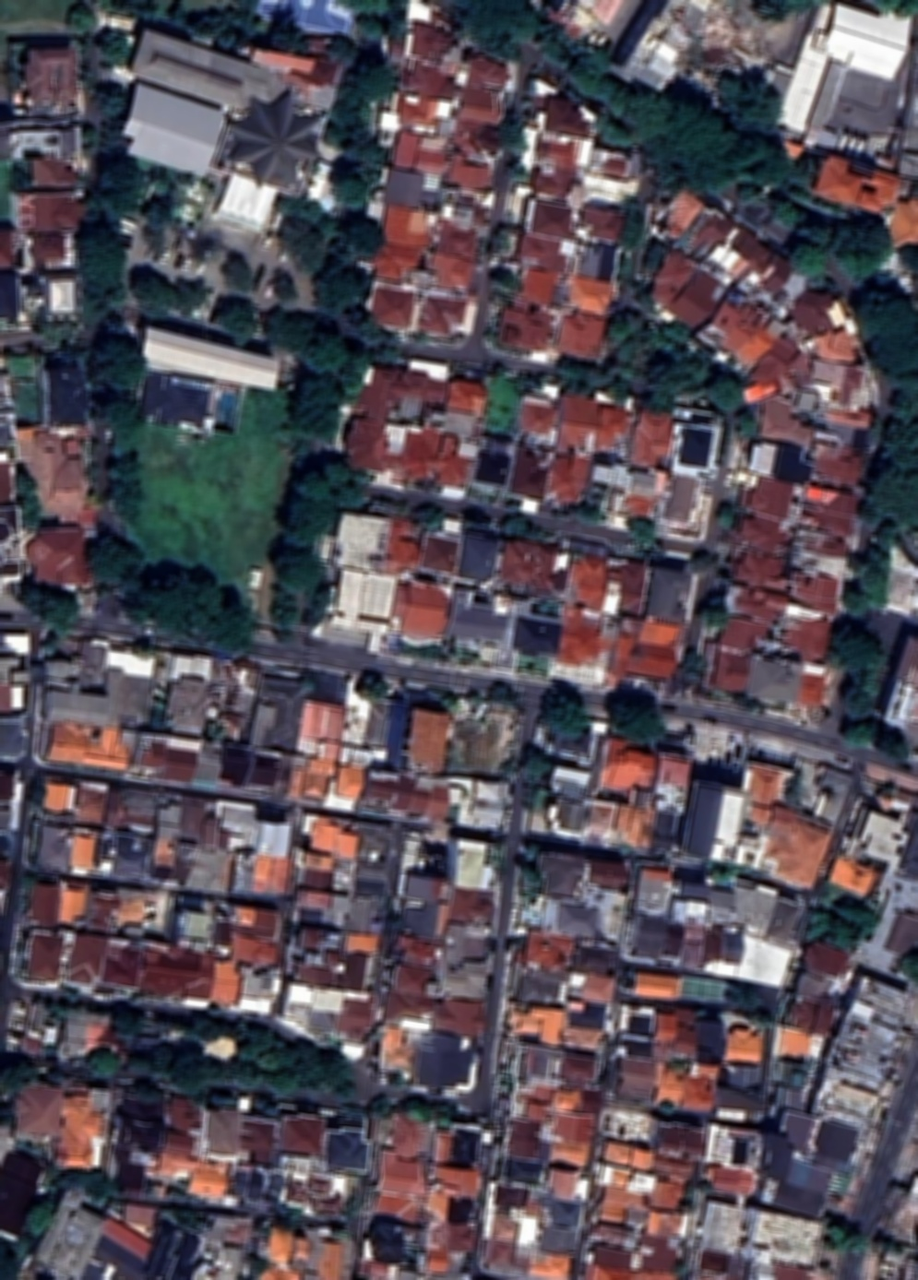building: (546, 541, 692, 699), (805, 966, 918, 1137), (316, 339, 453, 476), (210, 73, 339, 202), (126, 26, 289, 123), (672, 198, 798, 314), (148, 649, 276, 748), (696, 875, 807, 988), (609, 0, 726, 101), (114, 80, 230, 179), (337, 412, 475, 493), (136, 325, 283, 392), (635, 244, 732, 340), (148, 793, 235, 893), (133, 367, 245, 443), (772, 16, 840, 140), (809, 60, 907, 146), (748, 802, 837, 893), (27, 1187, 113, 1280), (817, 0, 914, 82), (696, 288, 786, 374), (16, 423, 92, 523), (329, 507, 430, 581), (214, 801, 292, 896), (852, 869, 918, 981), (543, 793, 659, 853), (808, 151, 904, 221), (702, 923, 796, 994), (243, 44, 342, 111), (79, 646, 157, 731), (675, 778, 749, 867), (843, 792, 918, 876), (739, 332, 817, 408), (357, 764, 453, 825), (335, 689, 410, 766), (369, 201, 436, 287), (760, 1150, 837, 1223), (245, 671, 311, 756), (279, 981, 371, 1041), (445, 703, 518, 776), (85, 1213, 164, 1280), (494, 534, 574, 598), (582, 460, 662, 523), (745, 1206, 825, 1269), (572, 139, 645, 207), (548, 0, 647, 50), (51, 1088, 109, 1173), (42, 719, 134, 772), (350, 822, 401, 915), (329, 566, 397, 635), (404, 1031, 477, 1093), (192, 1210, 256, 1280), (639, 553, 700, 626), (136, 946, 215, 1002), (212, 170, 279, 236), (688, 1193, 753, 1261), (24, 524, 90, 590), (388, 579, 453, 646), (0, 1147, 46, 1239), (805, 358, 875, 416), (373, 1148, 429, 1220), (131, 730, 201, 787), (878, 630, 917, 732), (330, 509, 391, 574), (215, 742, 285, 798), (597, 737, 660, 799), (444, 775, 512, 832), (742, 435, 816, 487), (38, 354, 89, 429), (669, 406, 721, 479), (677, 203, 737, 266), (623, 617, 681, 682), (219, 905, 280, 966), (752, 394, 819, 449), (400, 705, 453, 774), (146, 1216, 203, 1280), (701, 1122, 769, 1175), (806, 1115, 863, 1176), (554, 608, 609, 671), (294, 697, 348, 761), (742, 655, 806, 709), (623, 912, 685, 967), (797, 484, 860, 538), (42, 687, 121, 730), (445, 597, 510, 649), (115, 1087, 166, 1152), (22, 47, 77, 107), (297, 812, 363, 862), (728, 507, 792, 558), (721, 579, 789, 627), (626, 407, 676, 472), (653, 1065, 718, 1115), (548, 307, 608, 361), (737, 470, 798, 523), (174, 841, 232, 896), (652, 185, 707, 243), (805, 439, 866, 491), (725, 546, 791, 594), (601, 555, 650, 619), (56, 1007, 111, 1064), (784, 280, 838, 338), (505, 998, 568, 1047), (608, 1052, 663, 1108), (283, 1171, 347, 1219), (47, 639, 107, 690), (285, 751, 340, 806), (323, 1112, 371, 1175), (494, 304, 553, 355), (537, 896, 603, 941), (7, 997, 59, 1054), (543, 451, 594, 508), (11, 192, 83, 232), (824, 852, 884, 900), (163, 674, 210, 735), (587, 1247, 676, 1279), (59, 931, 108, 989), (574, 0, 643, 41), (785, 568, 843, 616), (399, 59, 458, 106), (532, 850, 587, 900), (435, 189, 492, 237), (738, 760, 791, 811), (364, 282, 418, 332), (516, 929, 576, 974), (791, 523, 852, 567), (18, 929, 65, 986), (374, 698, 411, 769), (803, 321, 862, 365), (629, 862, 676, 917), (507, 445, 553, 501), (454, 50, 512, 94), (235, 965, 283, 1018), (14, 1084, 62, 1137), (782, 993, 837, 1039), (796, 937, 852, 982), (430, 995, 487, 1039), (651, 754, 692, 815), (566, 553, 609, 611), (394, 895, 447, 942), (401, 19, 454, 66), (569, 236, 622, 283), (522, 196, 577, 241), (380, 1111, 429, 1161), (9, 126, 81, 160), (26, 820, 73, 872), (455, 531, 500, 585), (715, 612, 769, 657), (556, 394, 599, 450), (772, 1107, 820, 1157), (101, 833, 153, 879), (98, 939, 144, 991), (70, 783, 123, 828), (513, 231, 569, 273), (705, 647, 754, 695), (477, 1237, 532, 1279), (202, 1106, 243, 1162), (292, 925, 344, 969), (343, 417, 386, 470), (416, 295, 469, 338), (298, 698, 346, 745), (452, 839, 496, 890), (780, 618, 831, 662), (425, 251, 477, 294), (562, 274, 615, 316), (625, 641, 679, 682), (516, 1043, 564, 1089), (374, 1024, 417, 1075), (438, 958, 489, 1001), (365, 1216, 408, 1267), (228, 1165, 284, 1204), (443, 153, 495, 195), (661, 472, 701, 526), (116, 786, 160, 835), (511, 615, 562, 657), (622, 467, 664, 518), (538, 95, 590, 136), (515, 967, 568, 1007), (115, 1194, 163, 1238), (379, 166, 427, 210), (543, 794, 591, 838), (454, 85, 505, 126), (575, 203, 626, 244), (611, 803, 655, 850), (674, 421, 716, 470), (160, 1092, 206, 1136), (335, 993, 376, 1042), (21, 232, 75, 269), (702, 1162, 759, 1197), (516, 265, 562, 308), (443, 922, 490, 964), (433, 221, 481, 262), (82, 886, 122, 934), (594, 402, 633, 451), (207, 959, 245, 1009), (758, 1132, 795, 1183), (24, 878, 61, 928), (418, 532, 461, 575), (654, 1009, 696, 1053), (307, 1235, 348, 1280), (443, 375, 488, 416), (693, 1012, 729, 1063), (654, 1122, 705, 1158), (883, 908, 918, 960), (228, 1161, 270, 1204), (188, 1158, 231, 1200), (723, 1023, 765, 1066), (240, 1118, 277, 1166), (516, 395, 558, 437), (658, 560, 702, 600), (157, 745, 199, 786), (280, 1117, 324, 1156), (630, 968, 682, 1001), (637, 1233, 681, 1272), (790, 966, 834, 1005), (431, 1164, 481, 1198), (549, 1110, 596, 1146), (537, 1195, 584, 1231), (433, 451, 474, 492), (399, 871, 448, 905), (528, 166, 574, 202), (447, 888, 494, 923), (320, 780, 361, 820), (600, 1186, 645, 1222), (382, 990, 434, 1021), (252, 818, 292, 858), (251, 855, 291, 895), (505, 1117, 542, 1160), (713, 1086, 767, 1115), (650, 1150, 696, 1184), (548, 661, 608, 687), (262, 1224, 299, 1266), (585, 857, 630, 891), (590, 1220, 639, 1251), (335, 950, 371, 992), (557, 1052, 599, 1088), (0, 774, 24, 837), (27, 158, 77, 188), (388, 962, 432, 996), (500, 1155, 545, 1188), (343, 896, 382, 934), (646, 1176, 686, 1213), (172, 908, 214, 943), (388, 129, 423, 171), (888, 197, 917, 247), (473, 449, 511, 487), (112, 1158, 149, 1197), (774, 1025, 813, 1062), (155, 1150, 201, 1181), (175, 800, 207, 844), (43, 273, 77, 314), (544, 1166, 582, 1202), (321, 890, 356, 929), (644, 1208, 688, 1239), (577, 971, 617, 1005), (537, 1224, 579, 1256), (332, 763, 367, 801), (448, 1127, 482, 1166), (491, 1182, 530, 1216), (116, 893, 156, 926), (795, 669, 828, 709), (527, 1251, 572, 1280), (535, 138, 577, 169), (363, 367, 404, 398), (291, 962, 339, 988), (67, 831, 98, 871), (41, 780, 76, 815), (567, 1000, 607, 1030), (695, 1249, 733, 1280), (0, 717, 26, 762), (551, 758, 592, 786), (59, 885, 88, 924), (398, 97, 438, 125), (0, 269, 21, 321), (818, 408, 871, 428), (600, 1138, 635, 1168), (550, 1141, 590, 1167), (722, 1063, 760, 1090), (783, 600, 824, 625), (294, 887, 333, 912), (676, 879, 713, 905), (219, 709, 250, 740), (441, 1223, 474, 1252), (414, 147, 447, 176), (163, 1129, 197, 1157), (0, 516, 19, 565), (471, 124, 502, 154), (622, 1007, 654, 1036), (296, 867, 333, 891), (618, 1036, 655, 1060), (0, 221, 17, 268), (0, 629, 30, 655), (521, 1098, 551, 1123), (773, 1262, 817, 1279), (653, 1011, 677, 1042), (200, 814, 221, 849), (405, 0, 435, 24), (425, 1247, 450, 1274), (425, 1194, 449, 1222), (629, 1146, 654, 1171), (258, 1266, 302, 1279), (158, 803, 181, 825), (0, 771, 15, 802), (0, 856, 11, 891), (634, 2, 649, 24), (48, 695, 71, 709), (0, 831, 10, 858)
tree: (633, 92, 757, 215), (563, 40, 676, 143), (254, 182, 351, 278), (117, 559, 227, 643), (846, 271, 918, 382), (701, 58, 792, 143), (859, 418, 917, 545), (821, 208, 899, 290), (77, 148, 149, 236), (593, 680, 675, 755), (154, 1032, 230, 1106), (75, 530, 148, 605), (451, 0, 540, 61), (726, 124, 797, 196), (165, 0, 263, 51), (530, 674, 593, 752), (825, 618, 892, 691), (262, 532, 330, 603), (645, 342, 709, 415), (196, 596, 263, 664), (12, 577, 83, 641), (86, 327, 150, 398), (291, 375, 346, 457), (125, 270, 208, 323), (86, 383, 151, 450), (271, 490, 337, 552), (73, 229, 124, 305), (295, 326, 355, 386), (321, 159, 378, 218), (295, 1046, 353, 1103), (330, 209, 386, 268), (319, 124, 388, 169), (332, 0, 405, 42), (324, 83, 379, 138), (312, 260, 370, 312), (844, 551, 890, 615), (589, 110, 647, 160), (6, 461, 46, 533), (345, 54, 399, 107), (527, 19, 582, 71), (88, 23, 140, 76), (228, 1018, 282, 1069), (780, 234, 834, 285), (106, 457, 145, 527), (608, 322, 664, 370), (552, 354, 607, 401), (82, 75, 133, 125), (828, 889, 882, 936), (830, 678, 880, 727), (595, 360, 643, 410), (262, 310, 316, 354), (702, 366, 746, 419), (264, 1054, 309, 1105), (349, 313, 400, 358), (290, 465, 338, 512), (210, 302, 259, 348), (509, 741, 555, 789), (870, 723, 914, 773), (838, 711, 885, 756), (0, 1053, 42, 1103), (49, 1168, 119, 1198), (224, 1054, 269, 1100), (18, 1192, 61, 1240), (334, 347, 369, 405), (822, 915, 869, 958), (778, 152, 819, 201), (603, 305, 647, 350), (187, 1015, 246, 1048), (491, 105, 529, 156), (80, 1042, 124, 1086), (267, 586, 299, 645), (350, 665, 393, 708), (693, 594, 736, 637), (481, 679, 525, 721), (264, 15, 305, 60), (347, 8, 388, 51), (253, 1043, 297, 1081), (764, 195, 807, 233), (219, 251, 254, 297), (105, 1005, 145, 1045), (720, 981, 765, 1015), (110, 0, 168, 26), (825, 1223, 868, 1258), (799, 906, 834, 947), (30, 311, 71, 346), (885, 375, 916, 421), (302, 583, 331, 631), (754, 2, 811, 26), (778, 770, 812, 810), (139, 198, 175, 235), (621, 199, 645, 254), (167, 1203, 209, 1234), (411, 501, 447, 537), (315, 457, 351, 493), (400, 1096, 438, 1129), (270, 269, 302, 308), (501, 514, 544, 543), (626, 276, 657, 316), (332, 477, 366, 513), (625, 513, 657, 549), (63, 0, 94, 37), (363, 1092, 397, 1125), (485, 262, 519, 295), (513, 858, 545, 893), (685, 549, 718, 582), (657, 315, 690, 348), (71, 125, 104, 158), (702, 860, 741, 887), (639, 239, 666, 277), (56, 341, 94, 368), (396, 641, 442, 663), (445, 643, 482, 670), (291, 1038, 322, 1070), (797, 219, 829, 249), (457, 511, 490, 540), (568, 500, 603, 527), (679, 646, 704, 683), (145, 1046, 171, 1081), (329, 1076, 359, 1106), (138, 705, 168, 735), (154, 1016, 189, 1041), (876, 1232, 906, 1261), (33, 1161, 61, 1192), (372, 341, 402, 369), (744, 1005, 776, 1031), (611, 254, 636, 287), (0, 1238, 20, 1279), (339, 1192, 364, 1222), (273, 1200, 304, 1224), (249, 1215, 276, 1242), (8, 1233, 34, 1261), (713, 502, 736, 532), (25, 778, 45, 812), (202, 717, 227, 744), (494, 757, 520, 782), (503, 160, 529, 185), (10, 156, 29, 190), (809, 196, 842, 215), (84, 1190, 110, 1214), (895, 246, 916, 275), (81, 306, 113, 325), (15, 1139, 45, 1159), (737, 410, 757, 439), (899, 949, 916, 983), (41, 1067, 65, 1091), (463, 687, 486, 712), (438, 688, 459, 715), (517, 374, 545, 394), (122, 1054, 147, 1076), (385, 1071, 409, 1093), (134, 1082, 157, 1104), (59, 984, 81, 1007), (536, 599, 561, 619), (513, 886, 536, 907), (50, 1003, 70, 1026), (0, 1100, 15, 1130), (521, 841, 540, 862), (679, 1185, 699, 1204), (741, 695, 760, 714), (317, 305, 342, 319), (437, 1104, 460, 1119), (696, 1179, 714, 1198), (671, 1260, 689, 1279), (433, 1112, 451, 1131), (41, 636, 56, 658), (331, 1226, 351, 1241), (282, 922, 299, 939), (503, 500, 520, 517), (667, 1058, 689, 1071), (89, 490, 103, 510), (657, 1100, 674, 1116), (40, 1043, 57, 1059), (87, 464, 100, 481), (592, 1074, 606, 1089), (87, 440, 99, 456), (882, 782, 897, 794)
